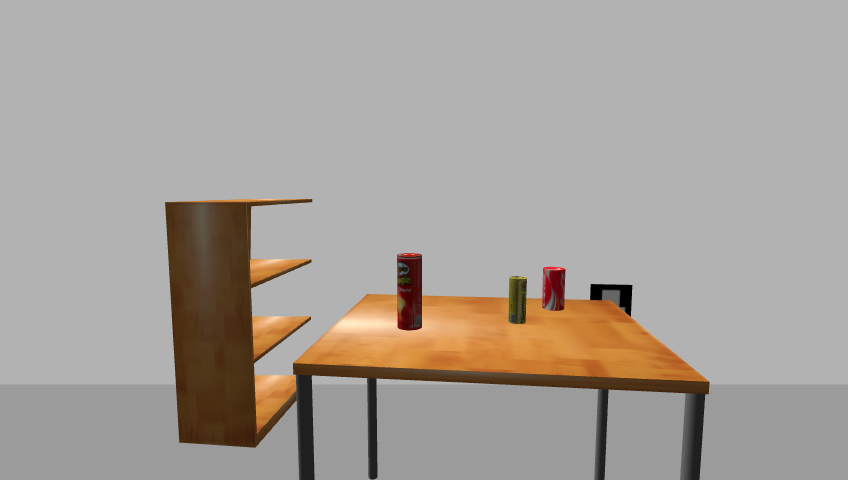aruco marker: (586, 282, 636, 320)
biscuits pack: (507, 276, 527, 325)
bookshelf: (161, 196, 319, 449)
coke can: (540, 266, 567, 313)
dinner table: (288, 293, 717, 479)
pringles can: (395, 253, 425, 333)
